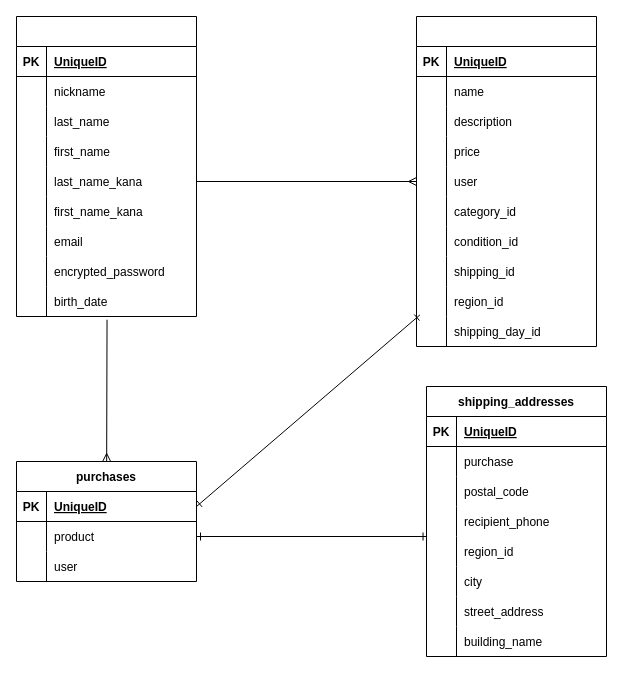
Some shapes in this 623 by 673 pixel diagram are drawn without their labels. Each missing label, with the box of its shape:
products: (416, 16, 596, 346)
users: (16, 16, 196, 316)
